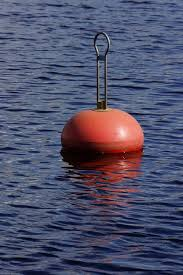buoy: (61, 110, 144, 155)
